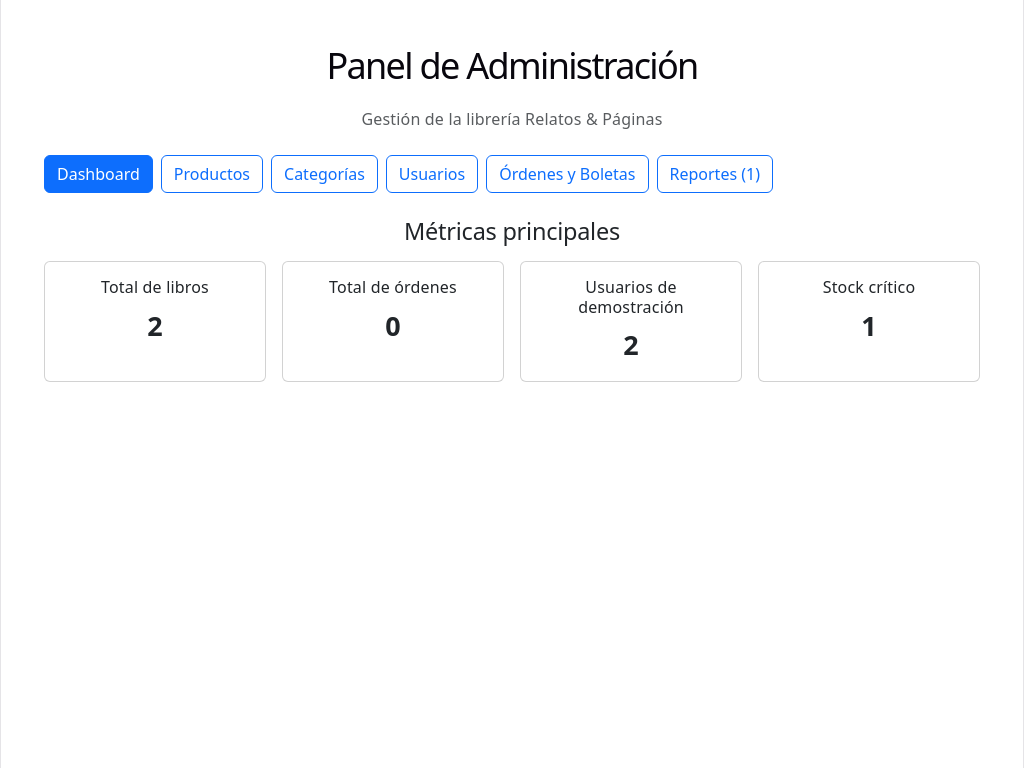
Test: Pruebas unitarias - Administración de librería › 6. Renderizar productos en la tabla administrativa
Click the button "Productos".
click(212, 174)  # box [161, 155, 263, 193]
(page scrolled)
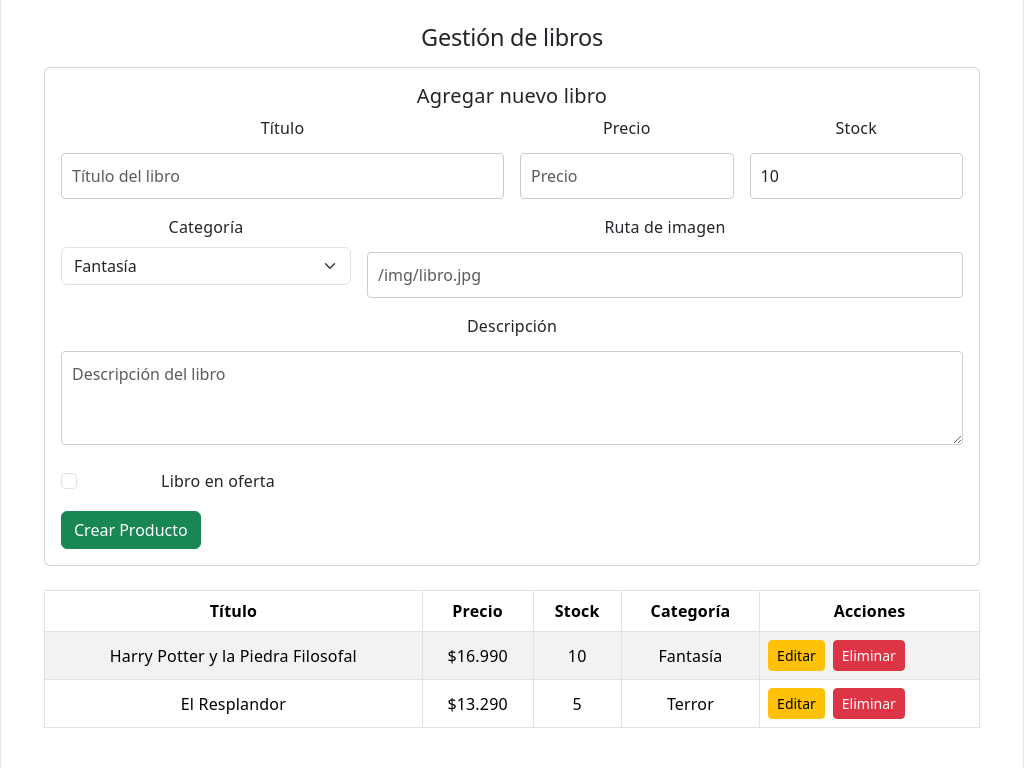
Expected: the number of rows with test id "fila-producto" is 2, [44, 632, 980, 680]; [44, 680, 980, 728]
Expected: the text "Harry Potter y la Piedra Filosofal" is shown, [44, 632, 422, 680]
Expected: the text "El Resplandor" is shown, [44, 680, 422, 728]
